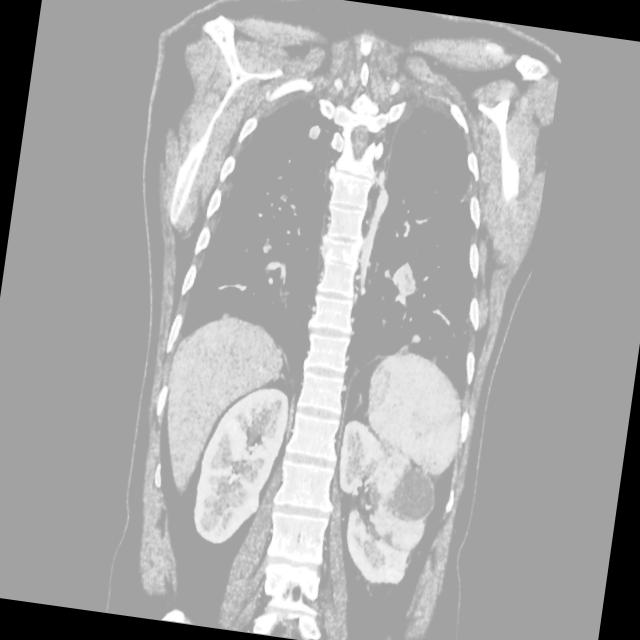TUMOR: (82, 261, 545, 570)
